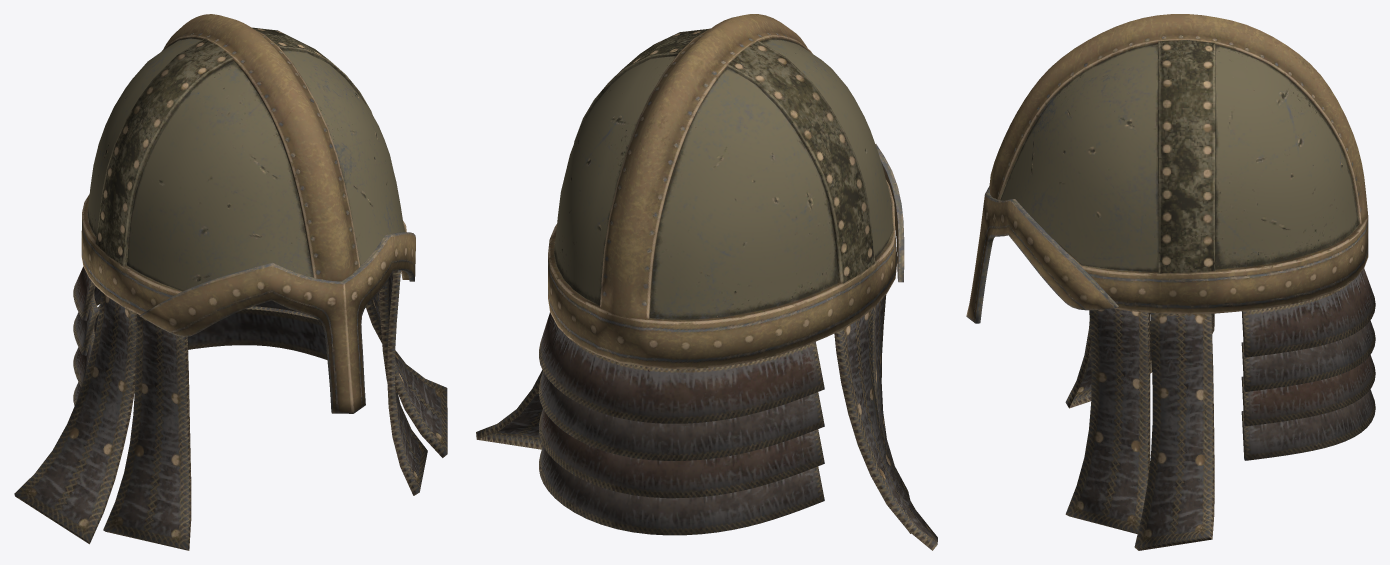
File: dunland_wulf_helmet_heavy_d.fbx
The picture shows the model from 3 angles, left to right: view 1: azimuth 30°, elevation 25°; view 2: azimuth 150°, elevation 25°; view 3: azimuth 270°, elevation 25°; orthographic projection. The views are drawn at different scales.
Visible parts, largest first — view 1: dunland_wulf_helmet_heavy_d; view 2: dunland_wulf_helmet_heavy_d; view 3: dunland_wulf_helmet_heavy_d.
Part boxes in pixels (left/top/right/bottom): dunland_wulf_helmet_heavy_d: left=14, top=14, right=447, bottom=550; dunland_wulf_helmet_heavy_d: left=476, top=14, right=937, bottom=550; dunland_wulf_helmet_heavy_d: left=966, top=14, right=1375, bottom=550.
Size of the model in its own units: 0.3247 by 0.2697 by 0.3284.
Materials: 1 (1 with a texture image).
